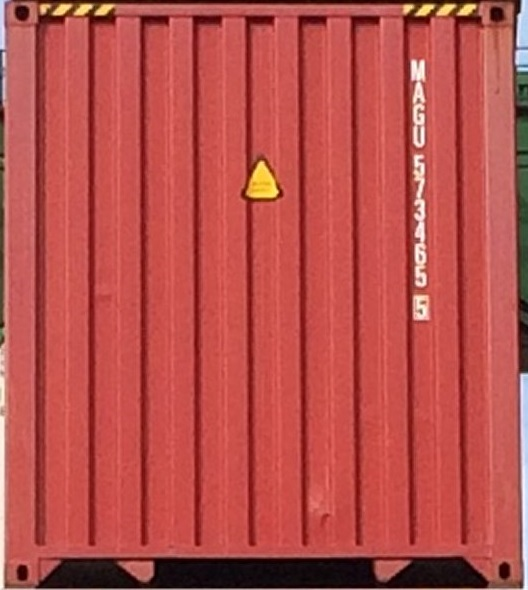container_no_door: (3, 1, 518, 582)
